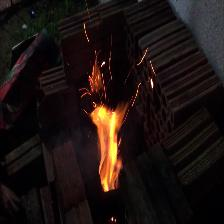fire: (69, 56, 148, 195)
